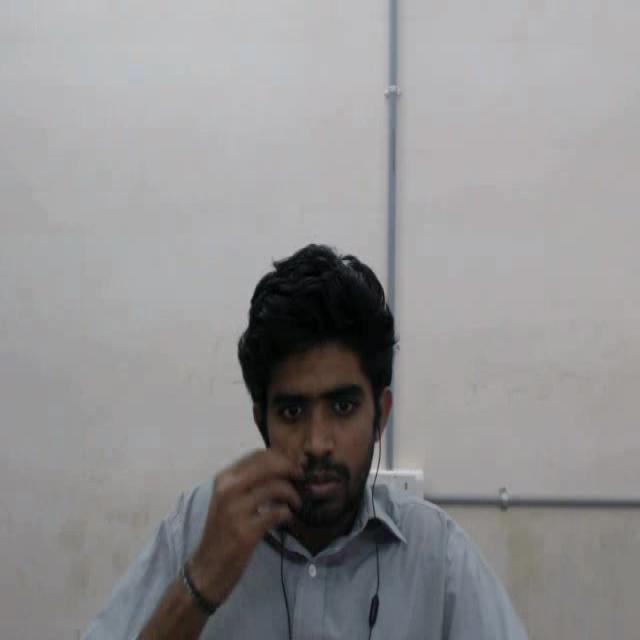Bored: (197, 216, 470, 591)
